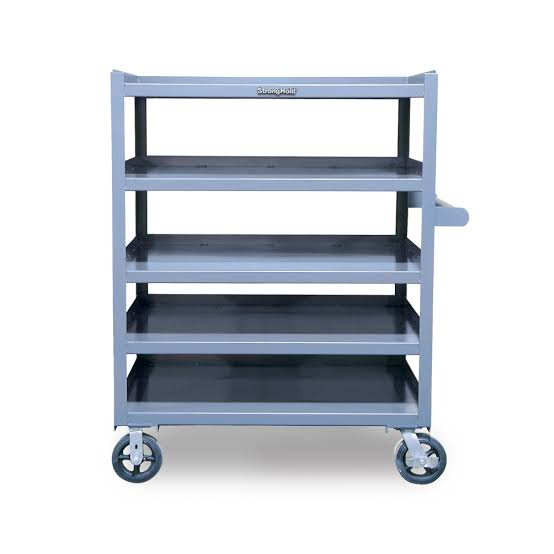Carts: (107, 69, 473, 486)
